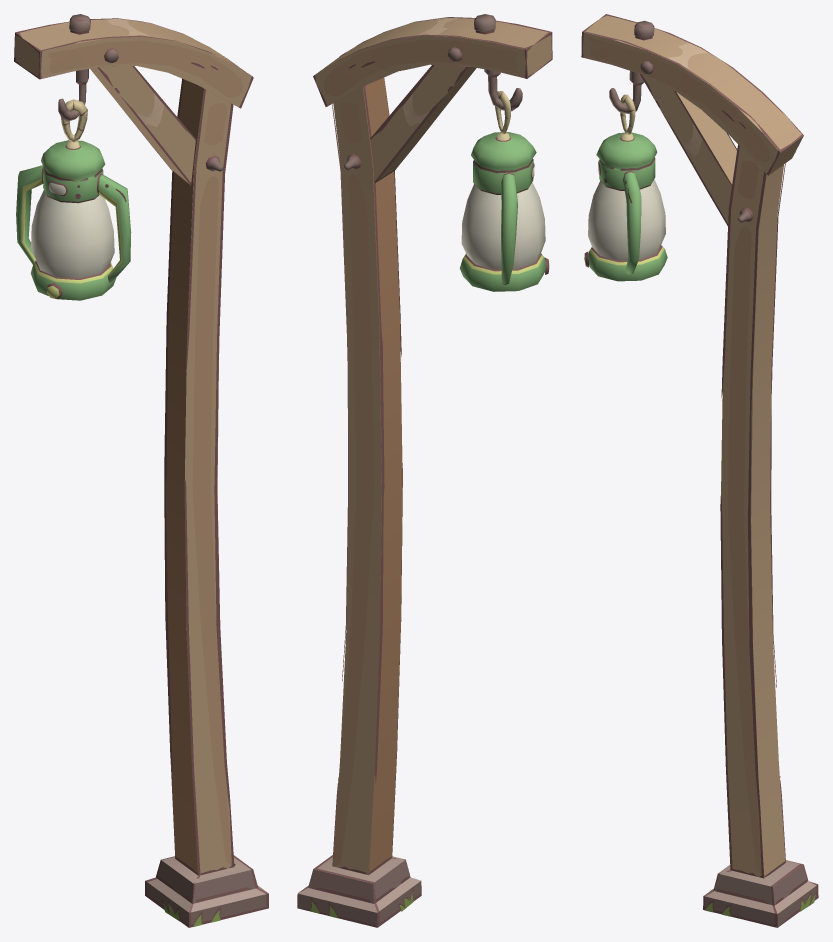
The model's file is Mesh_Adventure_Forest_Light_SM.fbx.
3 views of the same model, side by side, from view 1: azimuth 30°, elevation 25°; view 2: azimuth 150°, elevation 25°; view 3: azimuth 330°, elevation 25° (orthographic). The views are drawn at different scales.
Parts seen in each view (by area): view 1: Mesh_Adventure_Forest_Light; view 2: Mesh_Adventure_Forest_Light; view 3: Mesh_Adventure_Forest_Light.
Boxes of the visible parts, left/top/right/bottom form: Mesh_Adventure_Forest_Light: left=14, top=14, right=268, bottom=927; Mesh_Adventure_Forest_Light: left=297, top=14, right=552, bottom=927; Mesh_Adventure_Forest_Light: left=581, top=14, right=818, bottom=927.
Bounding box in the file's own units: 58.43 × 230 × 24.24.
